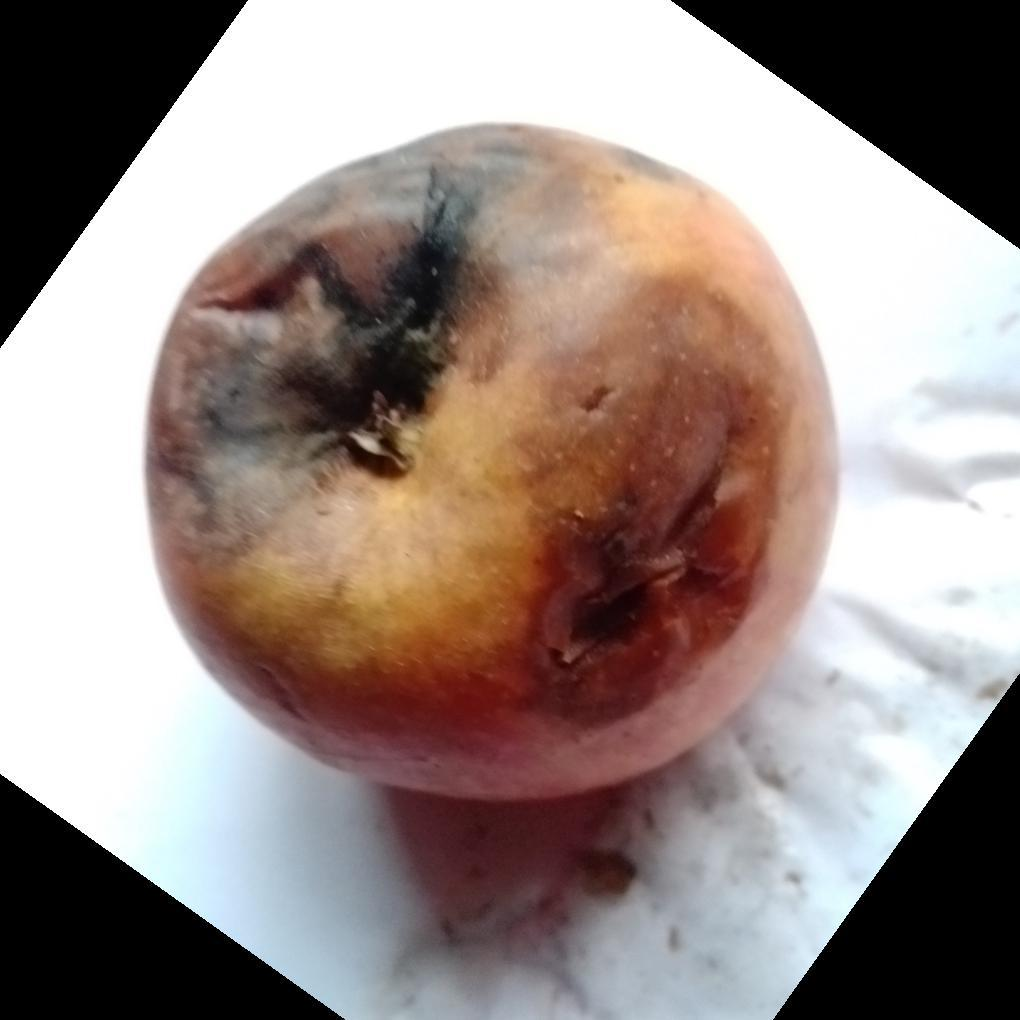FreshOrange: (141, 122, 843, 812)
